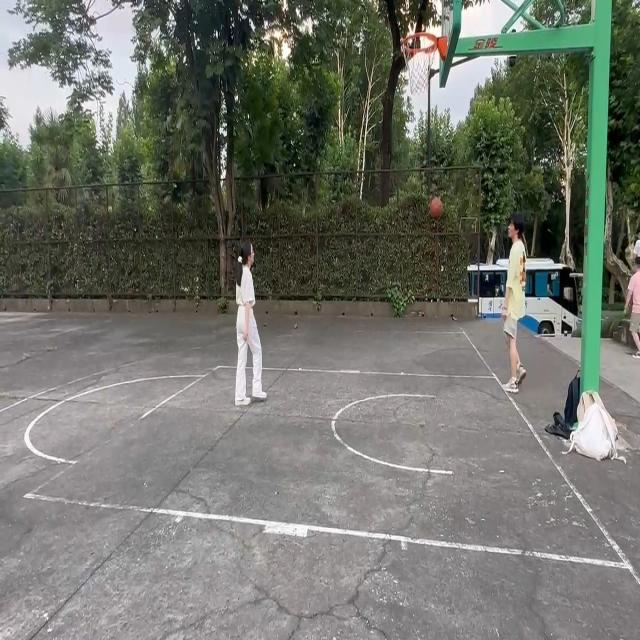basketball: (400, 28, 446, 96)
rim: (5, 1, 148, 157), (430, 197, 443, 219)
